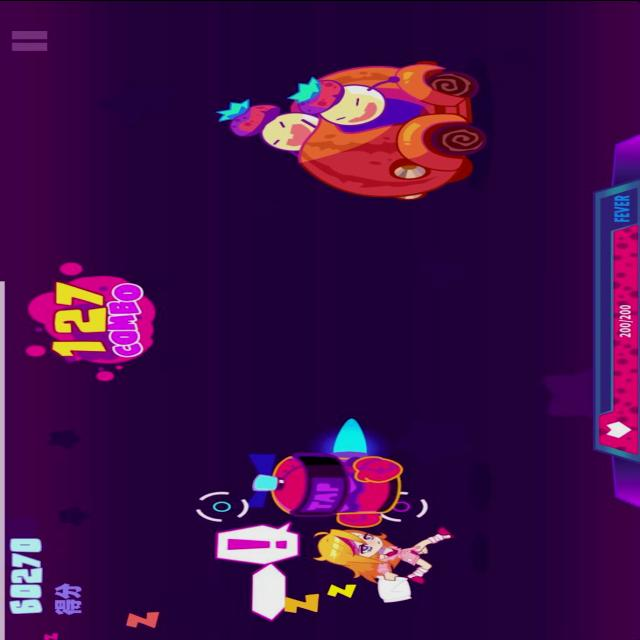cheboss: (213, 56, 487, 202)
tapboss: (240, 415, 426, 526)
